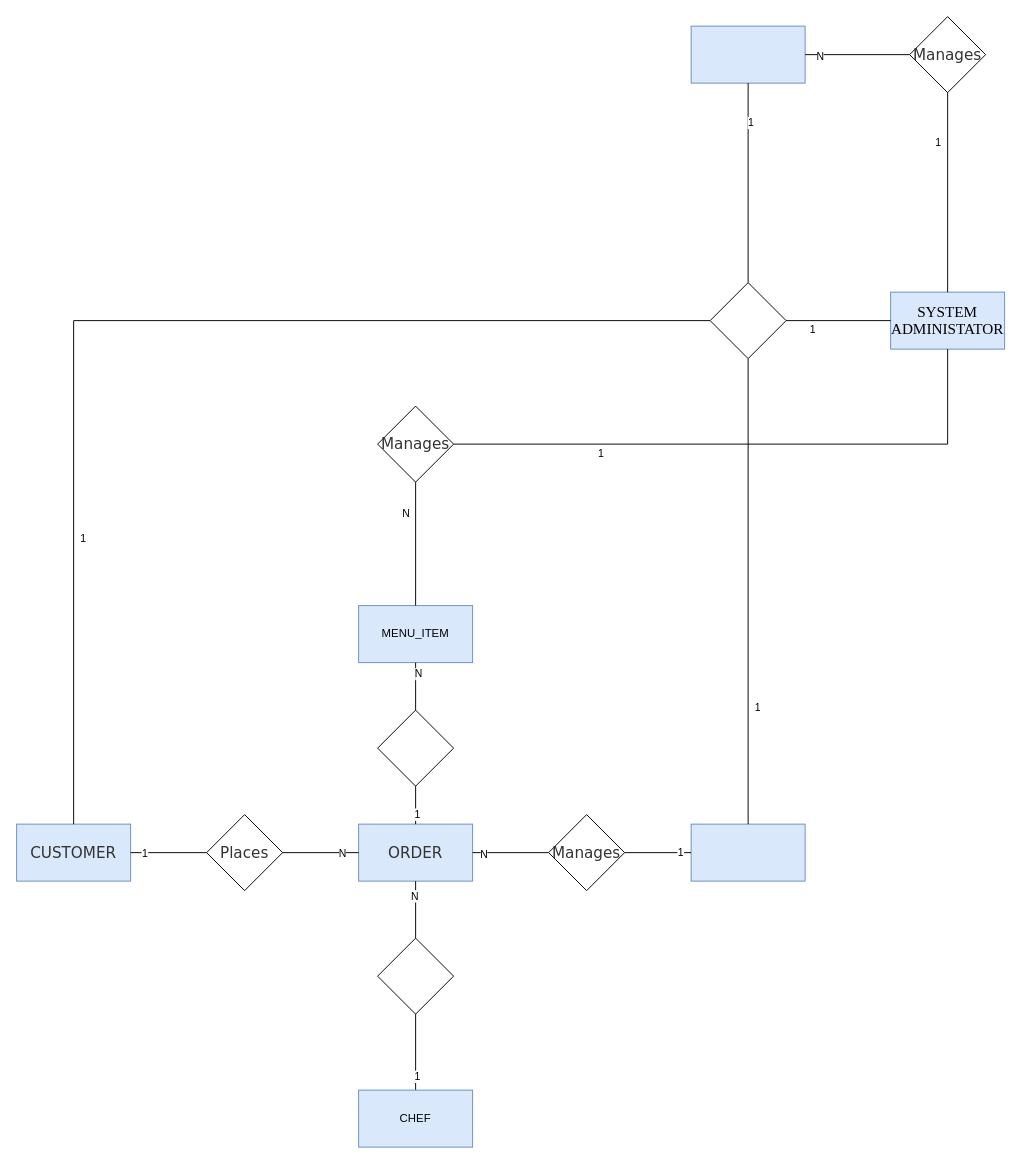
Some shapes in this 1021 by 1164 pixel diagram are drawn without their labels. The centre of each missing label's shape, as x and y in pixels:
"Authenticates" goes at point (747, 320).
"Cook" goes at point (415, 975).
"Has" goes at point (415, 747).
"STAFF" goes at point (747, 852).
"USER_ACCOUNT" goes at point (747, 54).
